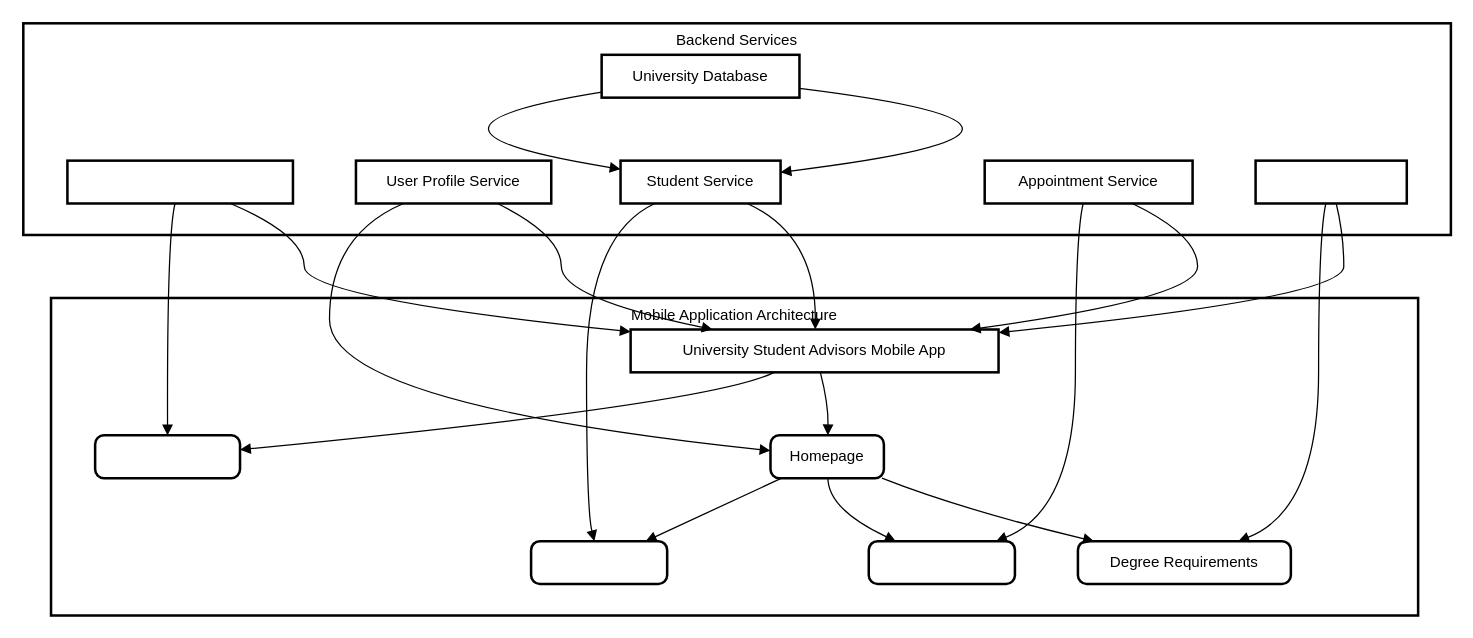
Some shapes in this 1473 by 638 pixel diagram are drawn without their labels. The centre of each missing label's shape, as x and y in pixels:
Appointments: (941,562)
Authentication Service: (180,181)
Course Service: (1330,181)
Sign Up/Login: (167,456)
Students List: (598,562)
